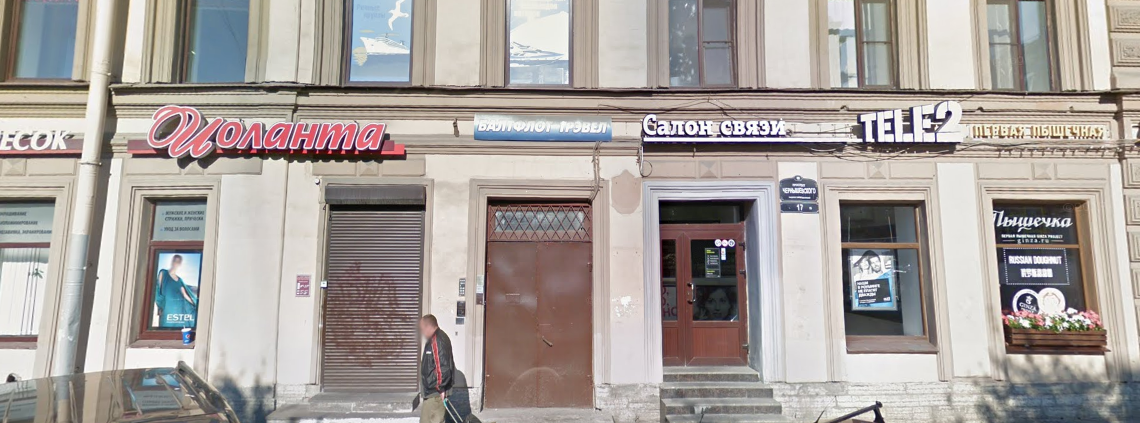door: (483, 236, 597, 414), (322, 210, 419, 392), (666, 227, 745, 367)
signboard: (125, 107, 409, 169), (645, 114, 793, 151), (854, 102, 967, 149), (475, 109, 609, 140), (972, 122, 1115, 138)
window: (844, 203, 922, 341), (988, 202, 1086, 311), (135, 197, 208, 338)
